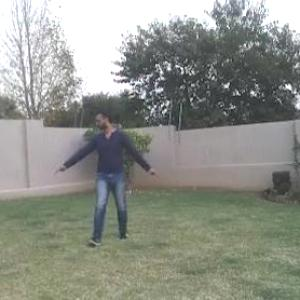land: (48, 95, 158, 246)
